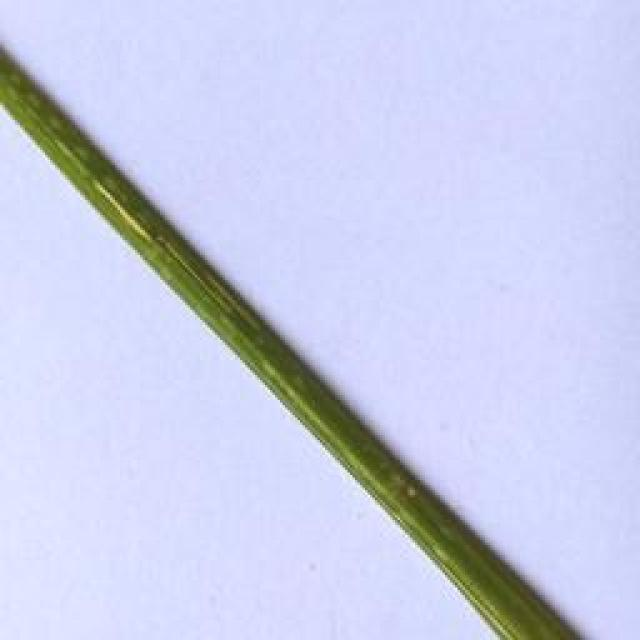Unhealthy: (258, 357, 524, 640), (160, 237, 259, 331), (92, 179, 152, 241), (405, 484, 417, 499)
